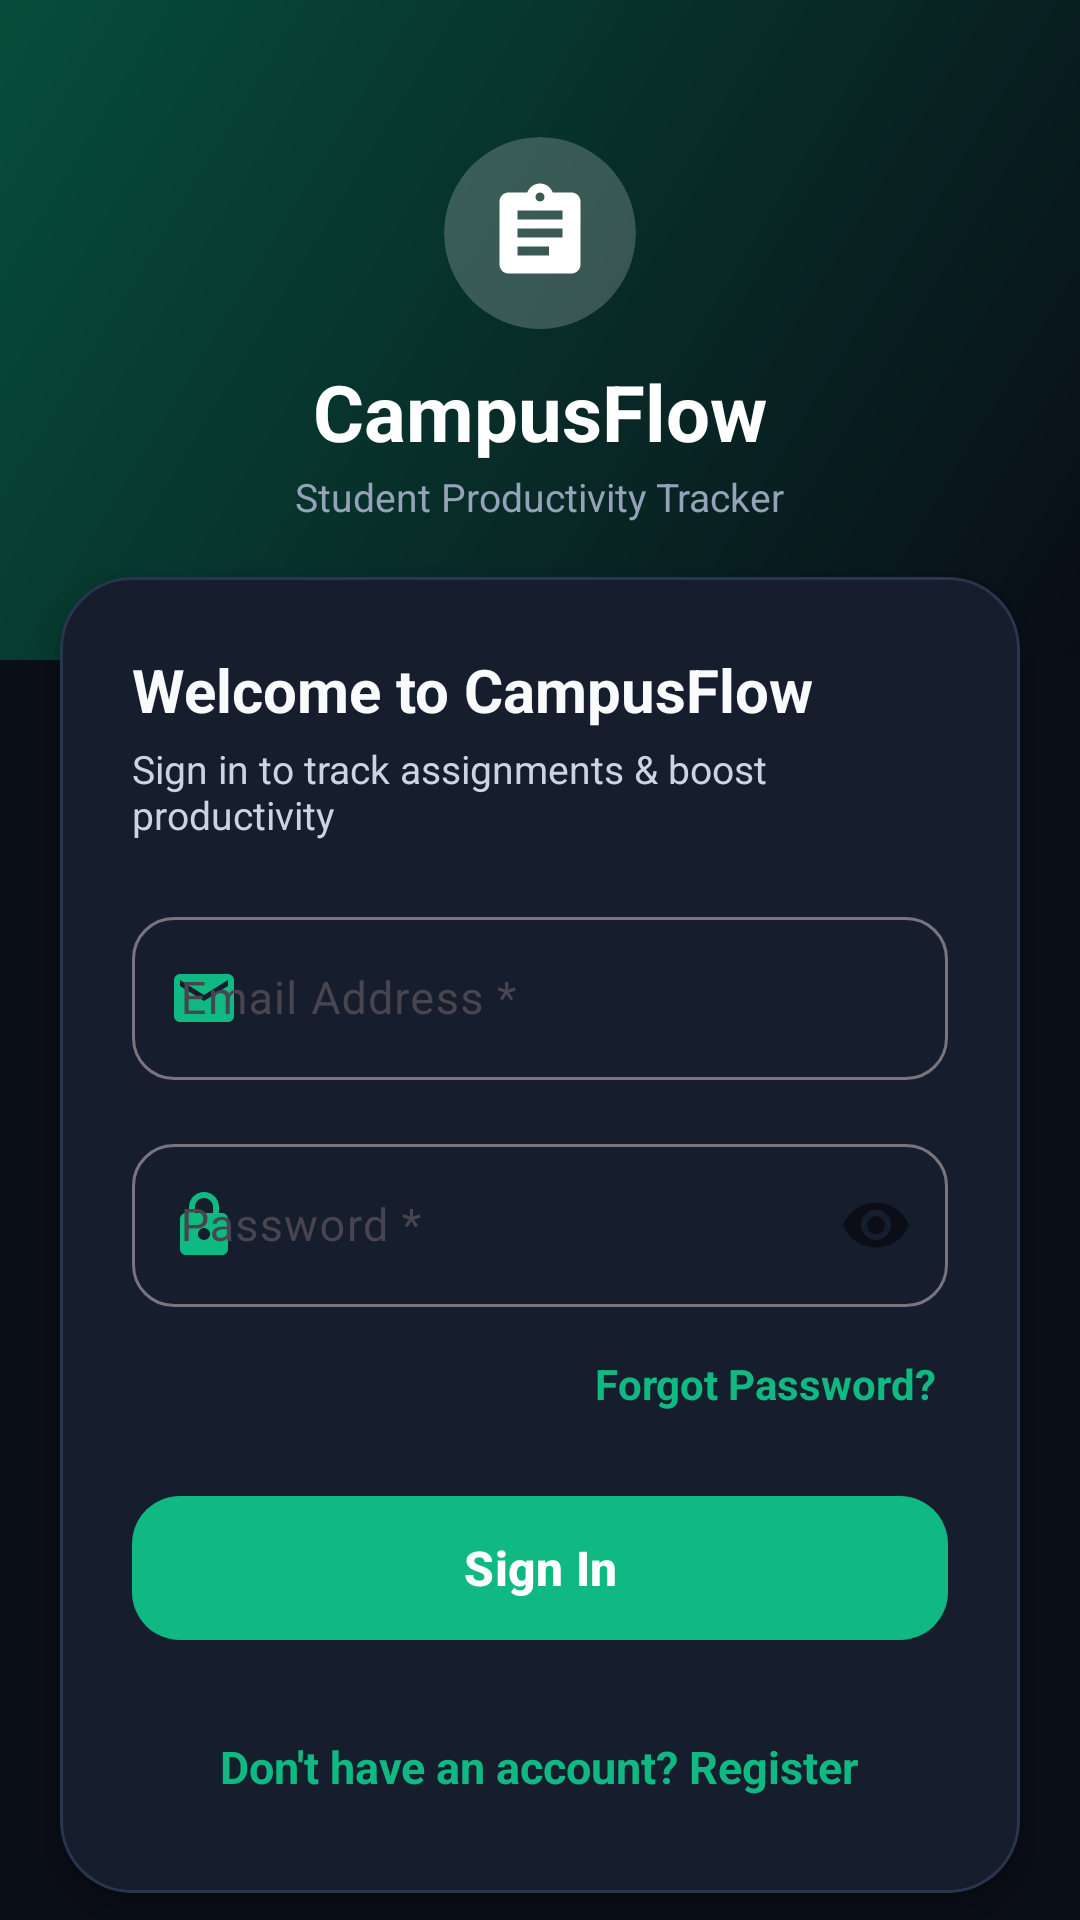

Screen size 1080w x 1920h. Icon name, then its center in pixels as point (x, y):
assignment: point (540, 228)
